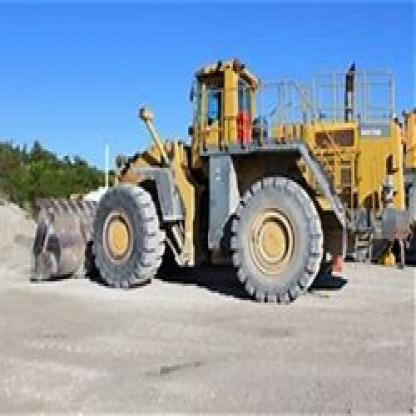bull_dozer/loader/grader: (25, 50, 411, 310)
